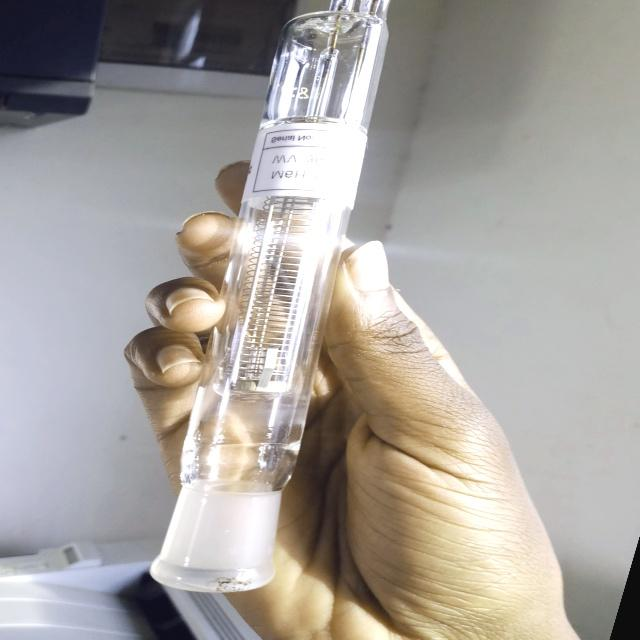Helium Lamp: (132, 0, 456, 593)
